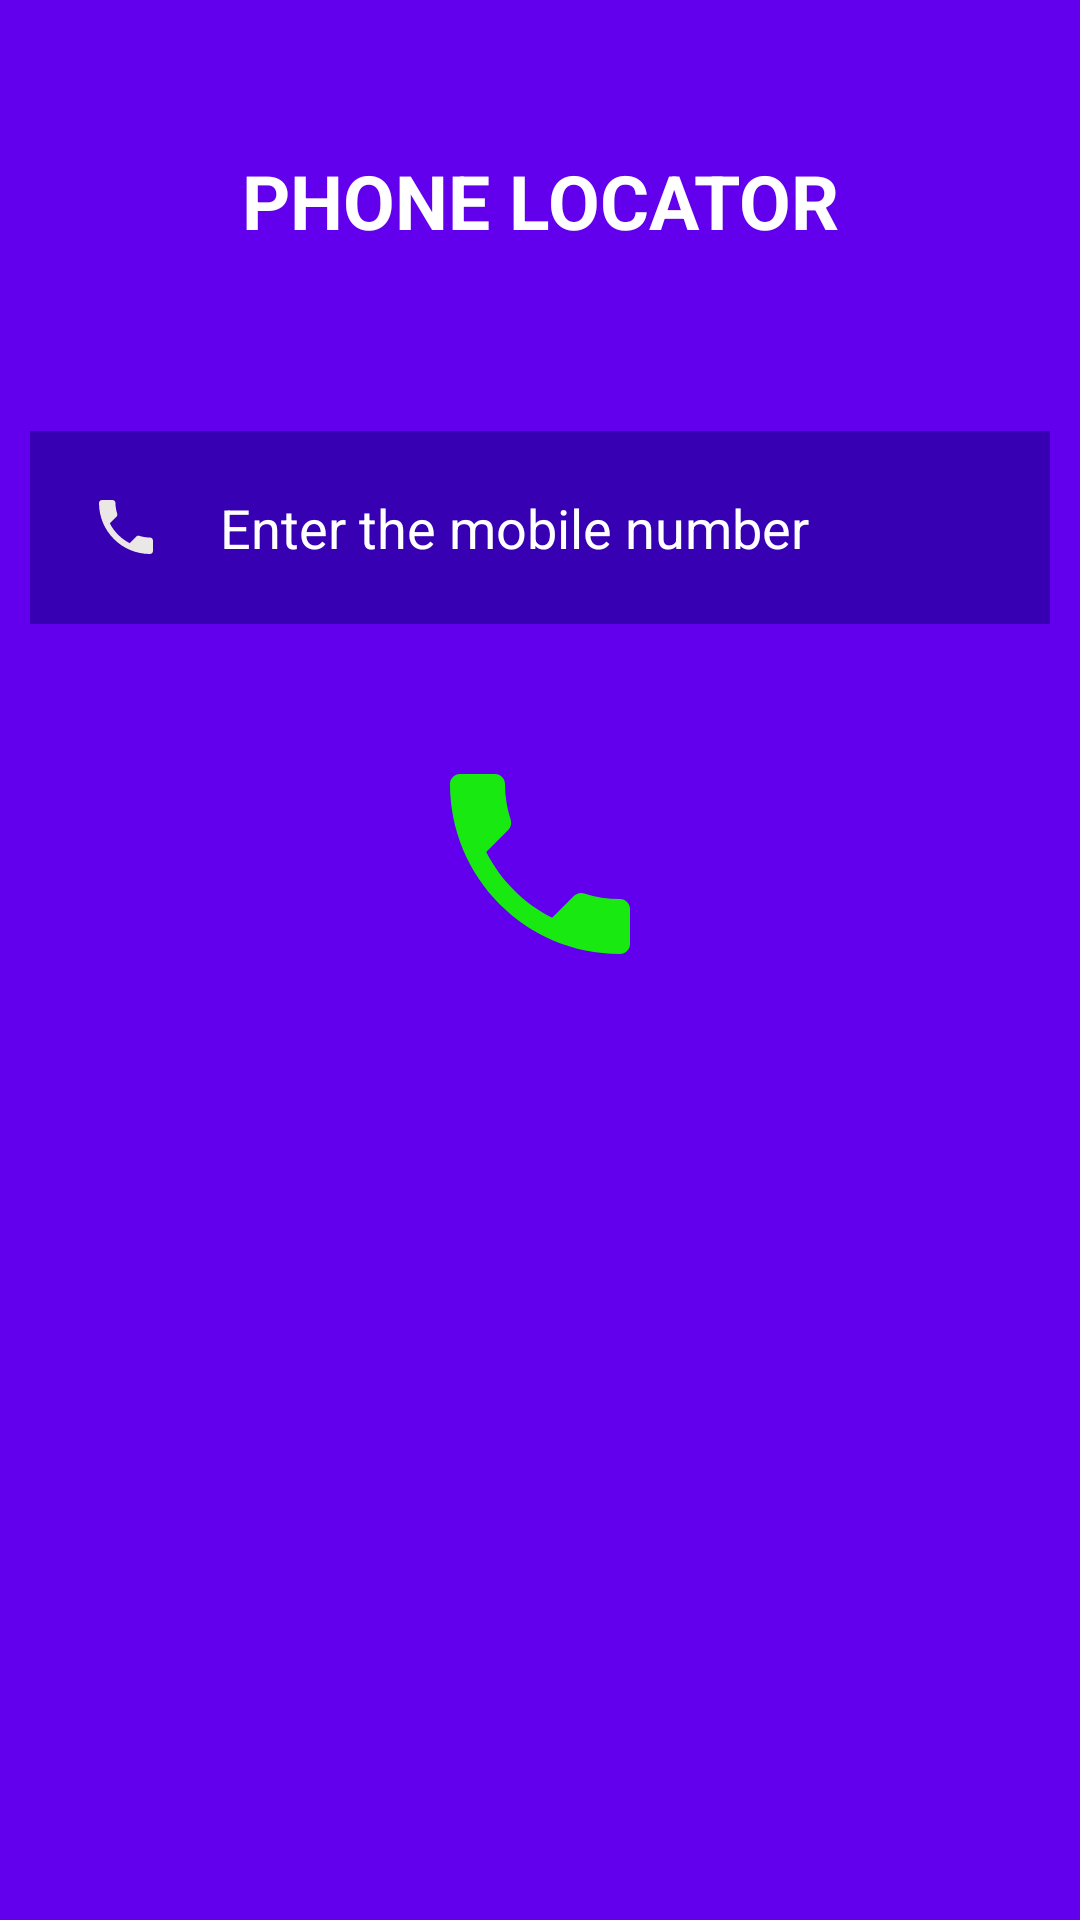

Point at icon controls on the screen. Image size 1080 × 1920, points as (x,y).
phone: (540,864)
